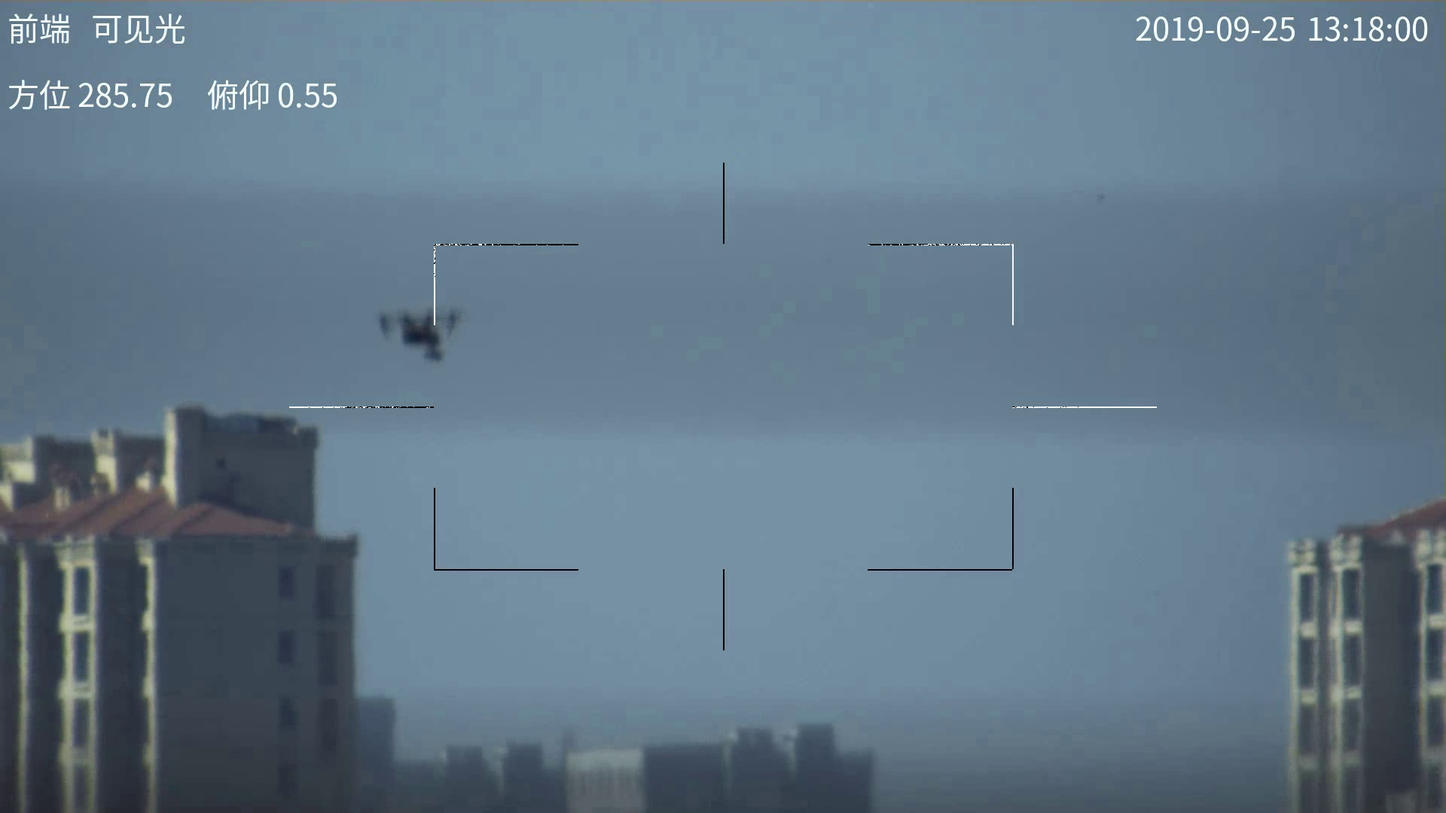drone_other: (377, 300, 471, 361)
